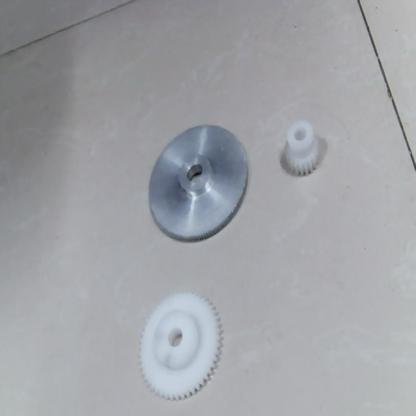FOD: (144, 124, 250, 242), (137, 290, 224, 402), (278, 120, 323, 176)
